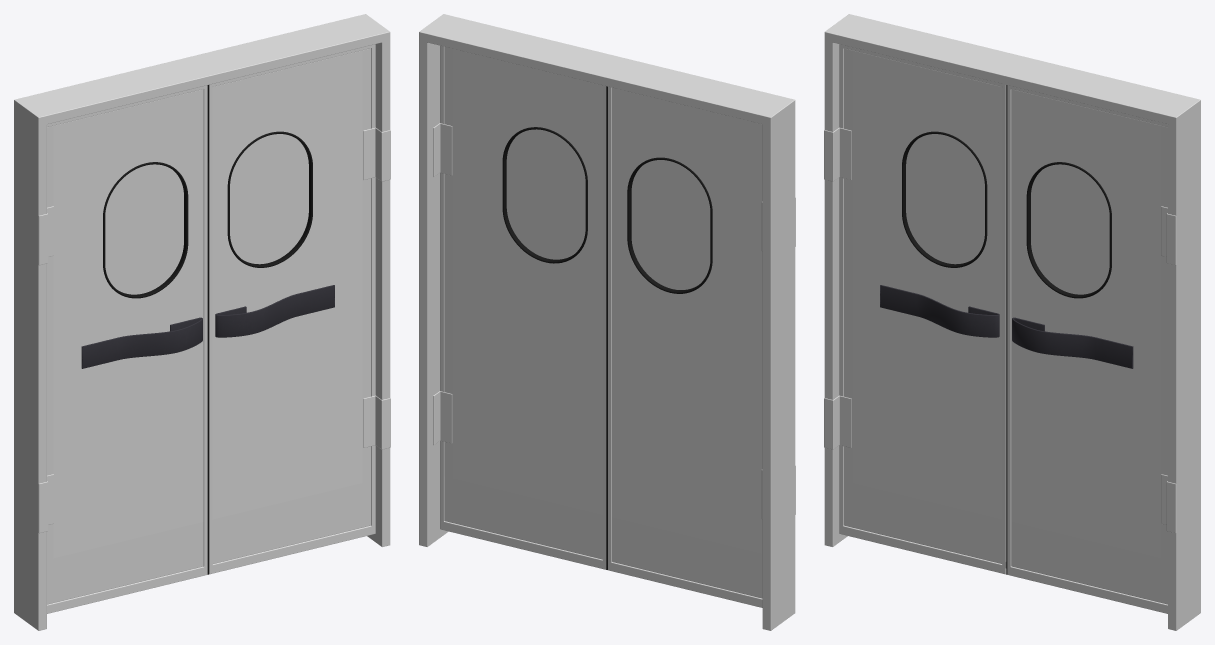
File: Boiler_Room_Door.fbx
3 views of the same model, side by side, from view 1: azimuth 30°, elevation 25°; view 2: azimuth 150°, elevation 25°; view 3: azimuth 330°, elevation 25° (orthographic).
Visible parts, largest first — view 1: Bakanlıklar.001, Bakanlıklar.002, Bakanlıklar.010; view 2: Bakanlıklar.001, Bakanlıklar.002, Bakanlıklar.010; view 3: Bakanlıklar.002, Bakanlıklar.001, Bakanlıklar.010.
Boxes of the visible parts, x1,y1,x2,y2 form: Bakanlıklar.001: (207,44,375,574); Bakanlıklar.002: (47,85,207,613); Bakanlıklar.010: (14,14,390,630); Bakanlıklar.001: (440,46,607,569); Bakanlıklar.002: (608,86,762,607); Bakanlıklar.010: (419,14,795,630); Bakanlıklar.002: (839,44,1006,574); Bakanlıklar.001: (1006,85,1167,613); Bakanlıklar.010: (824,14,1200,630).
Bounding box in the file's own units: 165 × 230 × 20.9.
5 materials, 2 textured.
